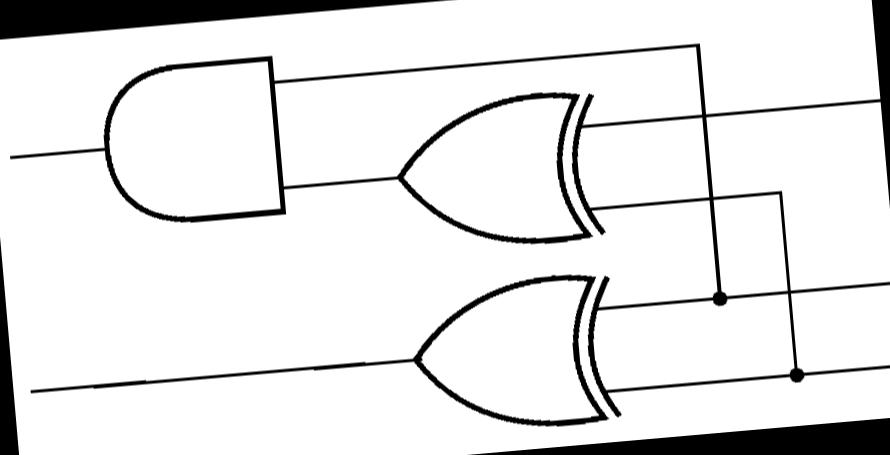and: (81, 42, 313, 242)
xor: (373, 70, 620, 266), (390, 256, 634, 450)
